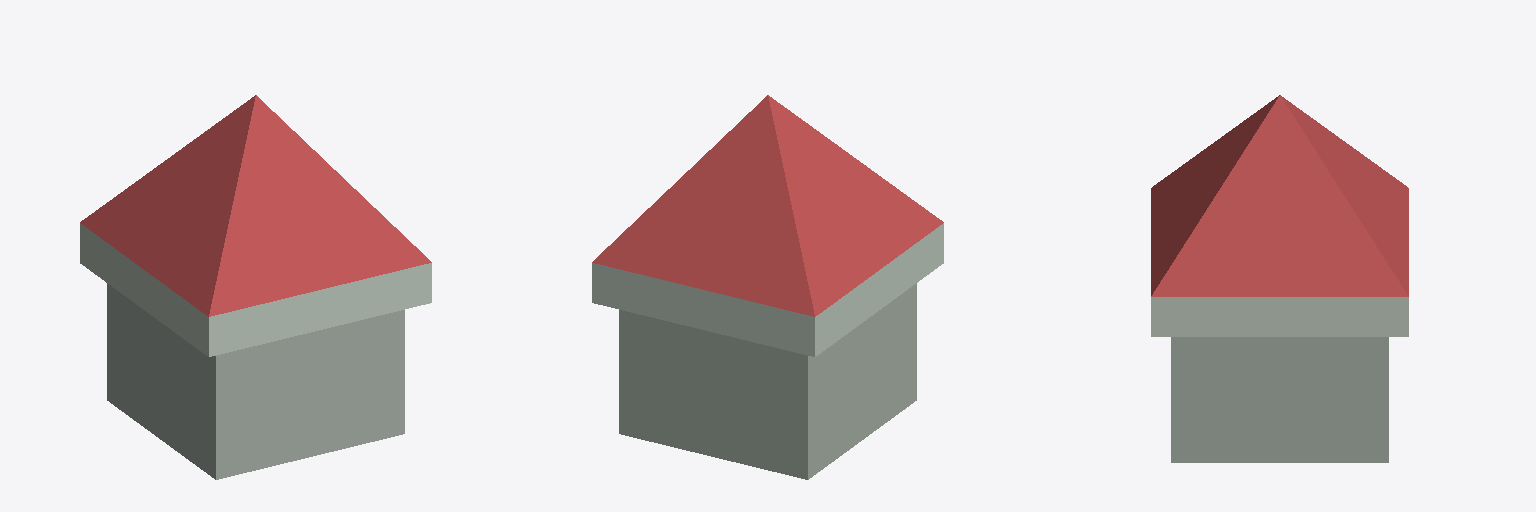
Rendered from tile_023.obj.
The picture shows the model from 3 angles: view 1: azimuth 30°, elevation 25°; view 2: azimuth 150°, elevation 25°; view 3: azimuth 270°, elevation 25°; orthographic projection.
Parts seen in each view (by area): view 1: tile_023; view 2: tile_023; view 3: tile_023.
Boxes of the visible parts, box(x1,y1,x2,y2) form: tile_023: box(80, 95, 431, 479); tile_023: box(592, 95, 943, 479); tile_023: box(1151, 95, 1408, 462).
Bounding box in the file's own units: 0.6974 × 0.96 × 0.6974.